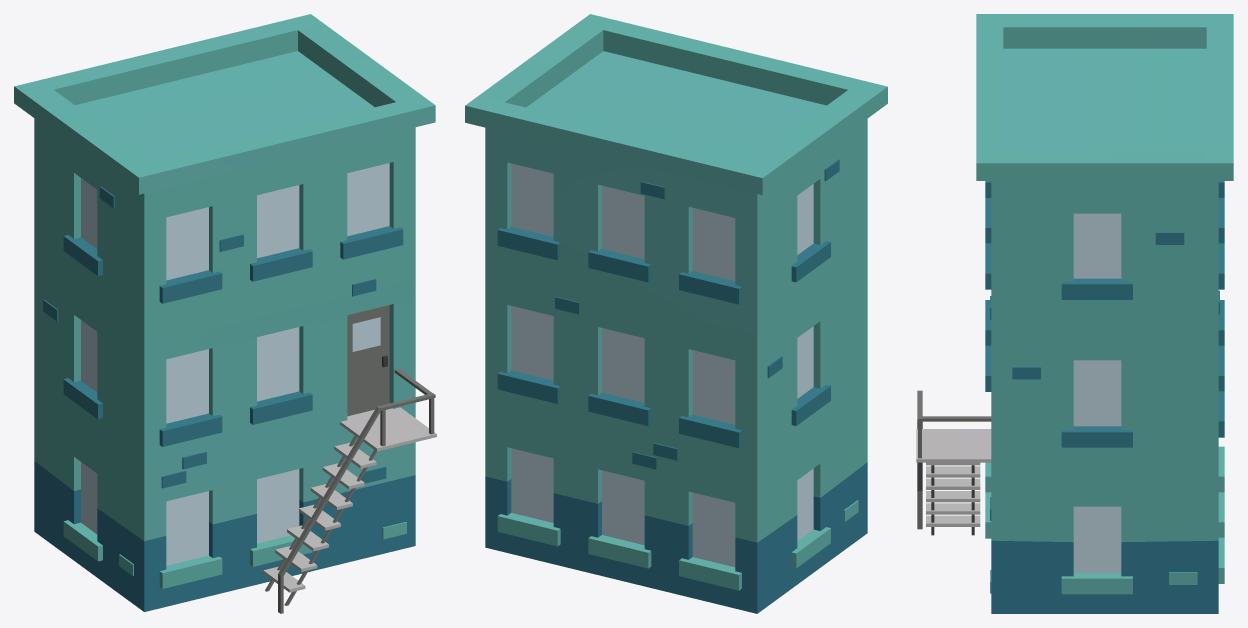
Rendered from city_building_7.glb.
3 views of the same model, side by side, from view 1: azimuth 30°, elevation 25°; view 2: azimuth 150°, elevation 25°; view 3: azimuth 270°, elevation 25° (orthographic). The views are drawn at different scales.
Parts seen in each view (by area): view 1: Building_3_Mat_0; view 2: Building_3_Mat_0; view 3: Building_3_Mat_0.
Part boxes in pixels (x1,y1,x2,y2): Building_3_Mat_0: (14,14,436,613); Building_3_Mat_0: (465,14,887,613); Building_3_Mat_0: (916,14,1233,613).
Bounding box in the file's own units: 3.57 × 5.09 × 3.21.
Materials: 1 (1 with a texture image).
